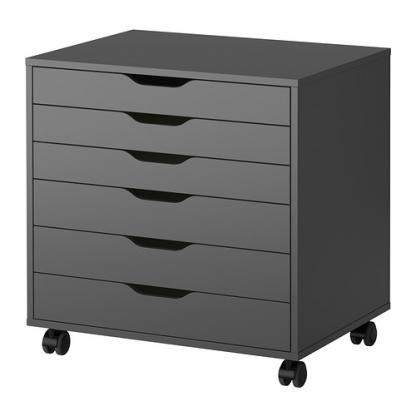Cabinet: (20, 23, 398, 390)
